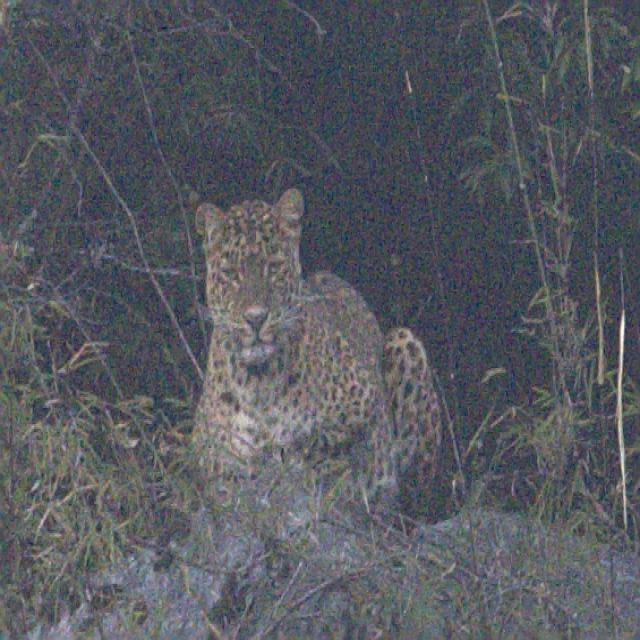Leopard: (192, 190, 441, 492)
